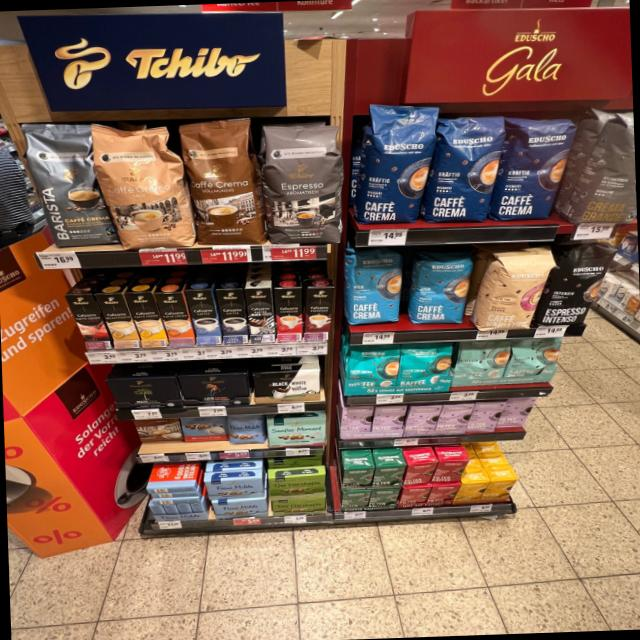BM Gemahlen: (105, 374, 181, 410)
BW Gemahlen: (254, 369, 322, 404)
Barista CC: (18, 117, 117, 250)
CC Mild: (90, 118, 192, 250)
CC Vollmundig: (132, 418, 184, 444)
CC Vollmundig 36 Pads: (177, 120, 264, 248)
Espresso Aromatisch: (258, 120, 346, 246)
FM 36 Pads: (179, 416, 228, 444)
FM Bohne: (226, 412, 266, 446)
FM Gemahlen: (203, 477, 266, 501), (211, 497, 269, 519)
Herzhatfe Mundig: (267, 474, 326, 497), (271, 495, 326, 517)
LG Gemahlen: (176, 370, 252, 408)
SM Gemahlen: (266, 414, 328, 448)
Simo CC Colombia: (64, 293, 113, 351)
Simo CCMild bigpack: (125, 291, 168, 347)
Simo CCVollmundig bigpack: (155, 292, 195, 347)
Simo Decaff: (94, 292, 141, 350)
Simo Es Brazil: (274, 287, 301, 344)
Simo Es Caramel: (305, 287, 334, 341)
Simo Es Elegant: (245, 288, 276, 343)
Simo Es Kraft: (216, 288, 248, 344)
Simo Es Vanilla: (184, 289, 222, 346)
